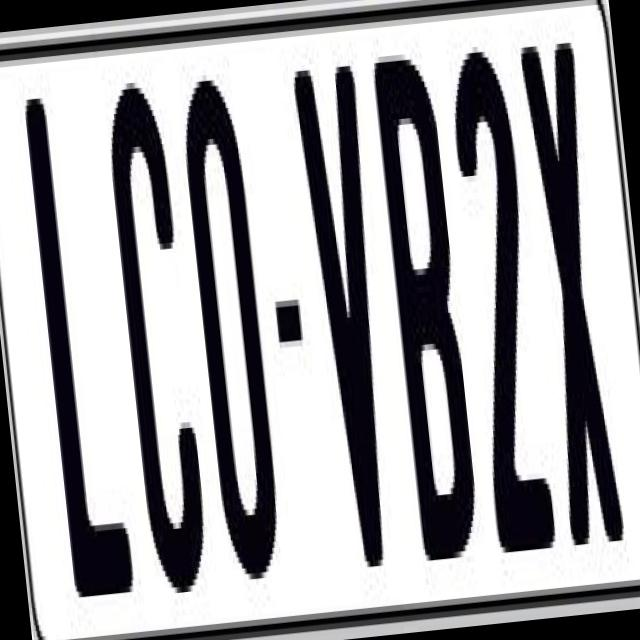0: (172, 66, 287, 594)
2: (441, 43, 557, 559)
B: (370, 39, 485, 578)
C: (100, 86, 216, 630)
L: (20, 93, 135, 621)
V: (288, 65, 404, 587)
X: (514, 25, 622, 558)
